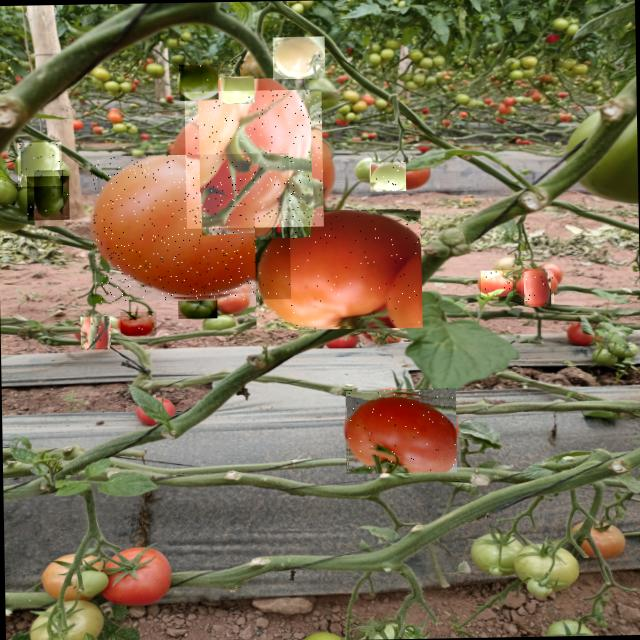Ripe Tomato: (89, 153, 291, 302), (254, 208, 422, 330), (184, 89, 323, 228), (344, 388, 456, 473), (520, 270, 554, 304), (80, 316, 110, 348), (120, 310, 156, 336), (480, 270, 512, 296)
Unripe Tomato: (272, 36, 325, 79), (16, 142, 62, 186), (26, 175, 70, 220), (178, 64, 218, 101), (370, 162, 406, 192), (220, 75, 254, 104), (178, 300, 217, 318)
